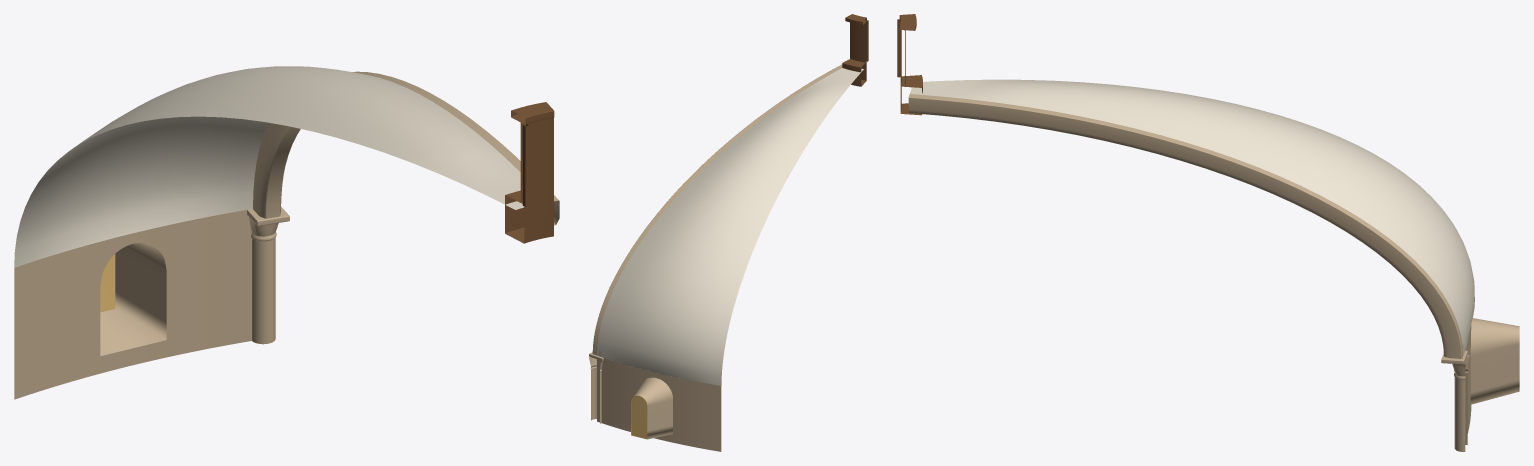
The model's file is upper.glb.
The picture shows the model from 3 angles, left to right: view 1: azimuth 30°, elevation 25°; view 2: azimuth 150°, elevation 25°; view 3: azimuth 270°, elevation 25°; orthographic projection. The views are drawn at different scales.
Parts seen in each view (by area): view 1: upper, glass; view 2: upper, glass; view 3: upper.
Part boxes in pixels (box(x1,y1,x2,y2)): upper: box(14, 66, 559, 399); glass: box(100, 254, 115, 312); upper: box(588, 14, 868, 451); glass: box(631, 395, 647, 438); upper: box(897, 14, 1519, 451).
Bounding box in the file's own units: 3.99 × 7.9 × 11.56.
